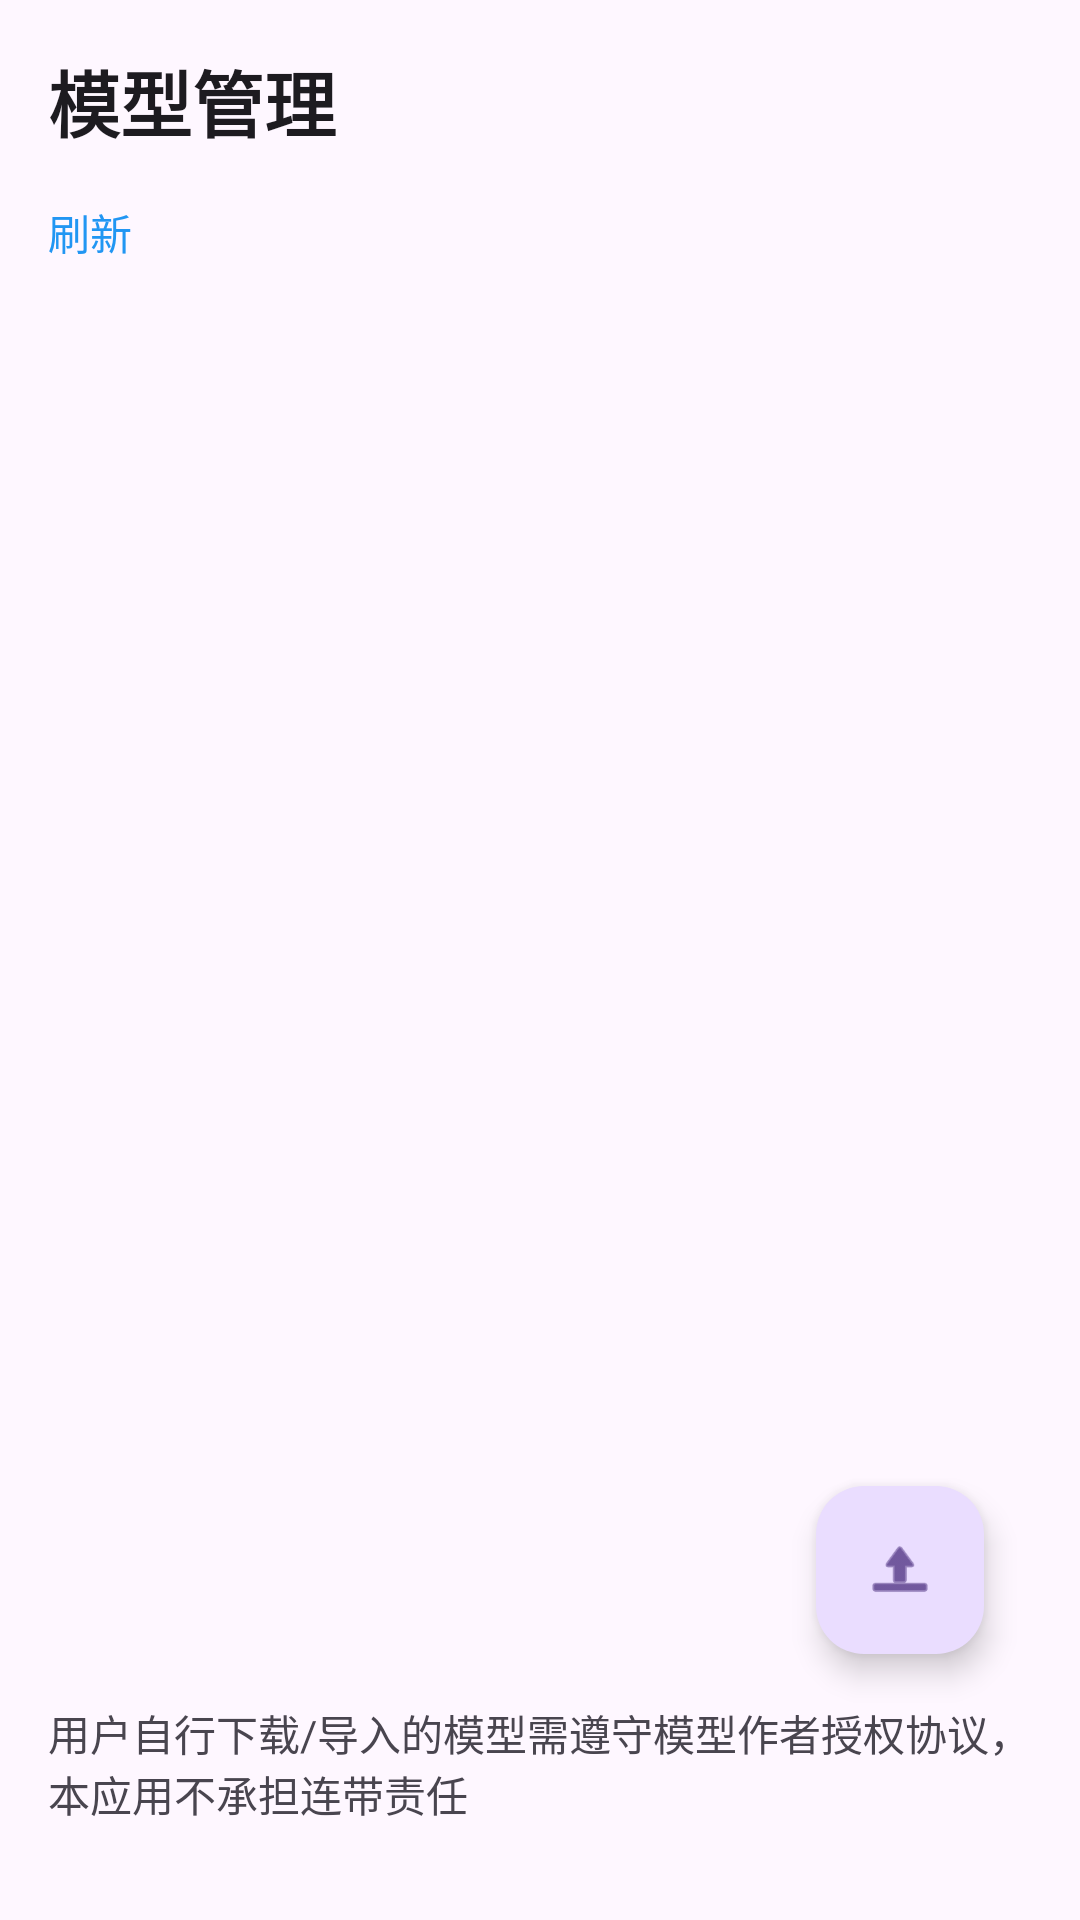

Screen size 1080px×1920px. Icon name, then its box in pixels as (x1, y1, x2, y2):
导入本地模型: (816, 1486, 984, 1654)
